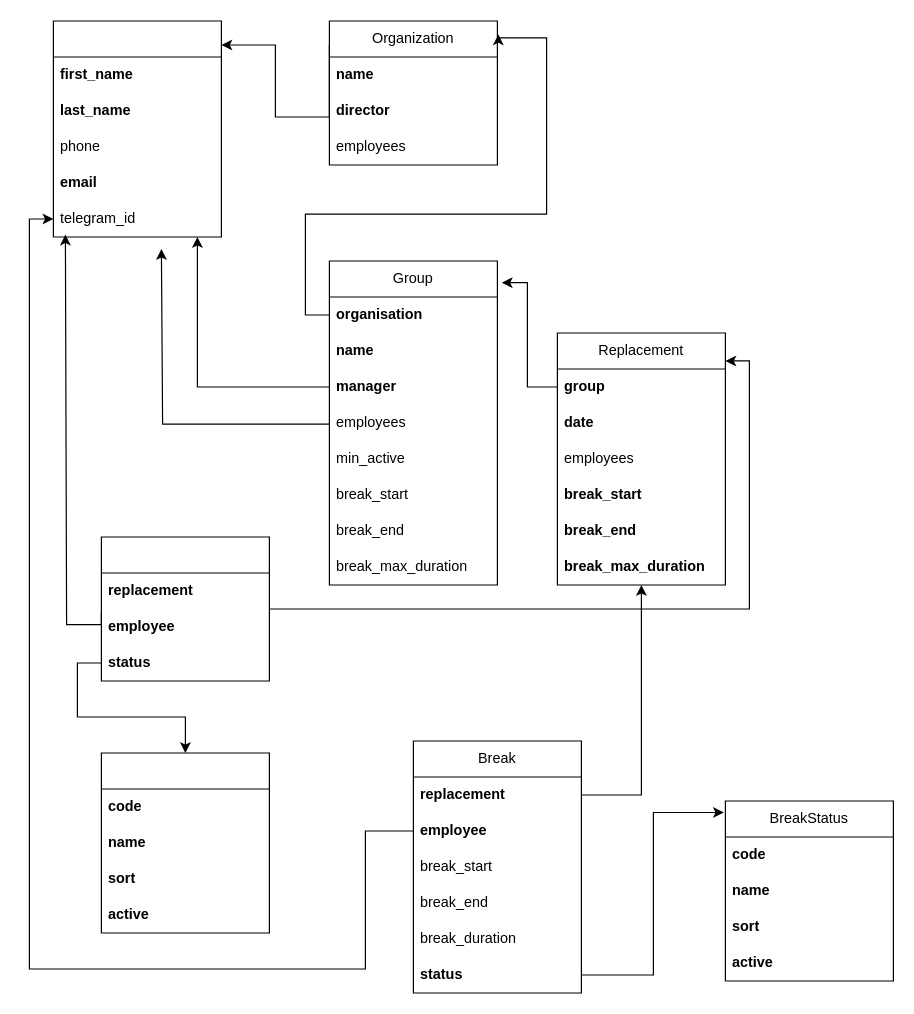
Some shapes in this 914 by 1014 pixel diagram are drawn without their labels. The shapes that lost their labels are listed below. From the top down, each one's box as (x1, y1, x2, y2) in pixels, then its label:
(52, 20, 221, 237): User
(100, 536, 269, 681): ReplacementEmployee
(100, 752, 269, 933): ReplacementStatus
